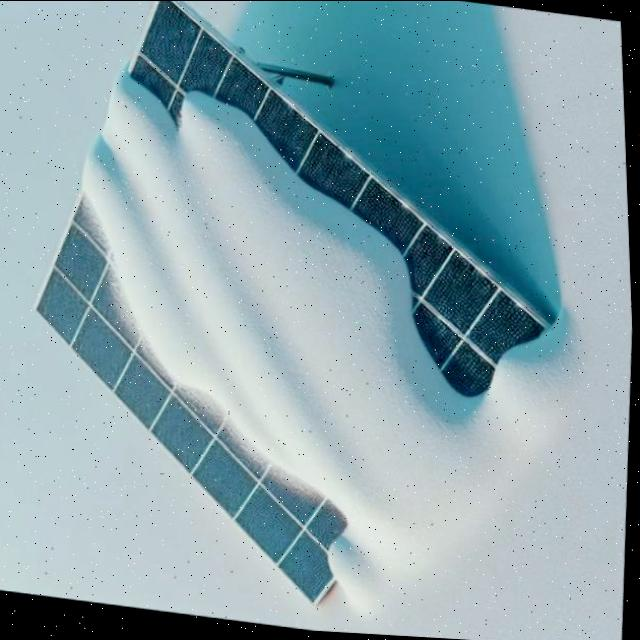Anomaly Solar Panel: (37, 0, 554, 612)
Snow: (80, 73, 496, 587)
